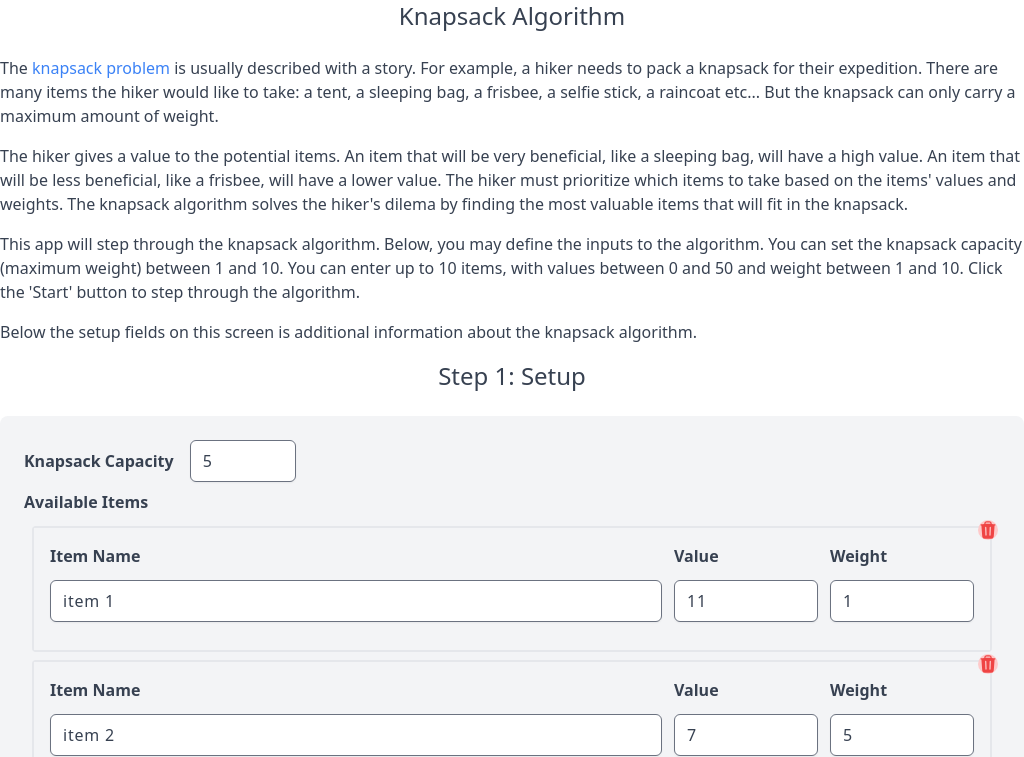
Test: test the setup screen › should not accept missing item name
Clear the field showing "item 1" at {"x": 356, "y": 601}, box [50,580,662,622]
(page scrolled)
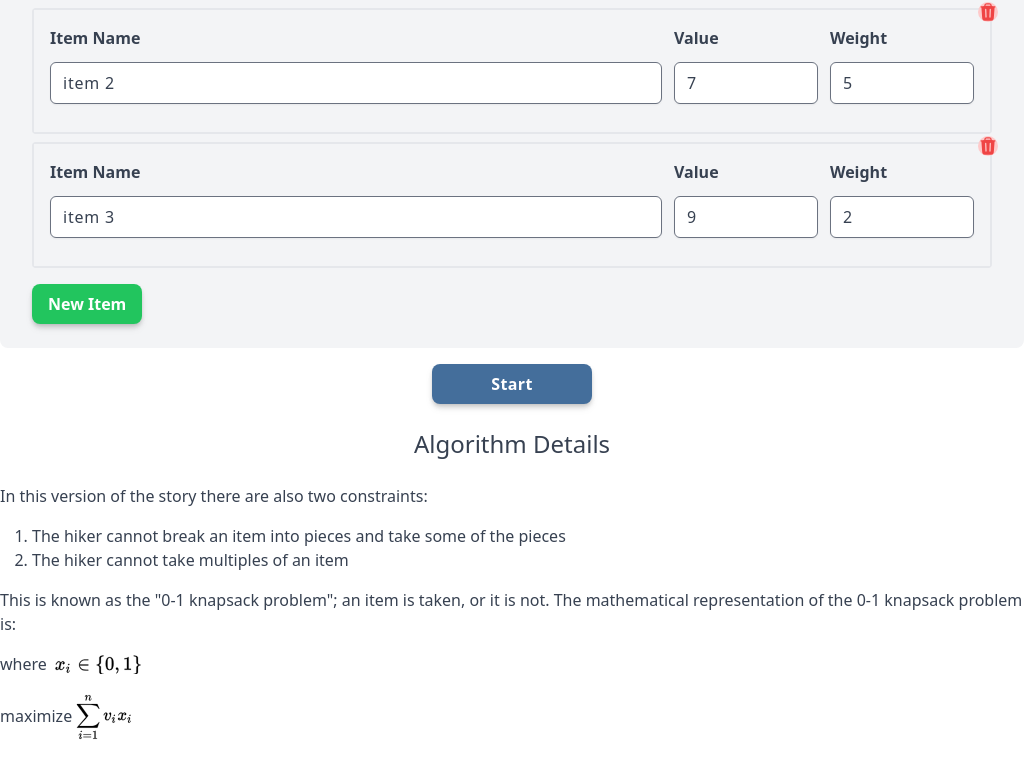
Click the button "Start".
click(512, 384)  # box [432,364,592,404]
(page scrolled)
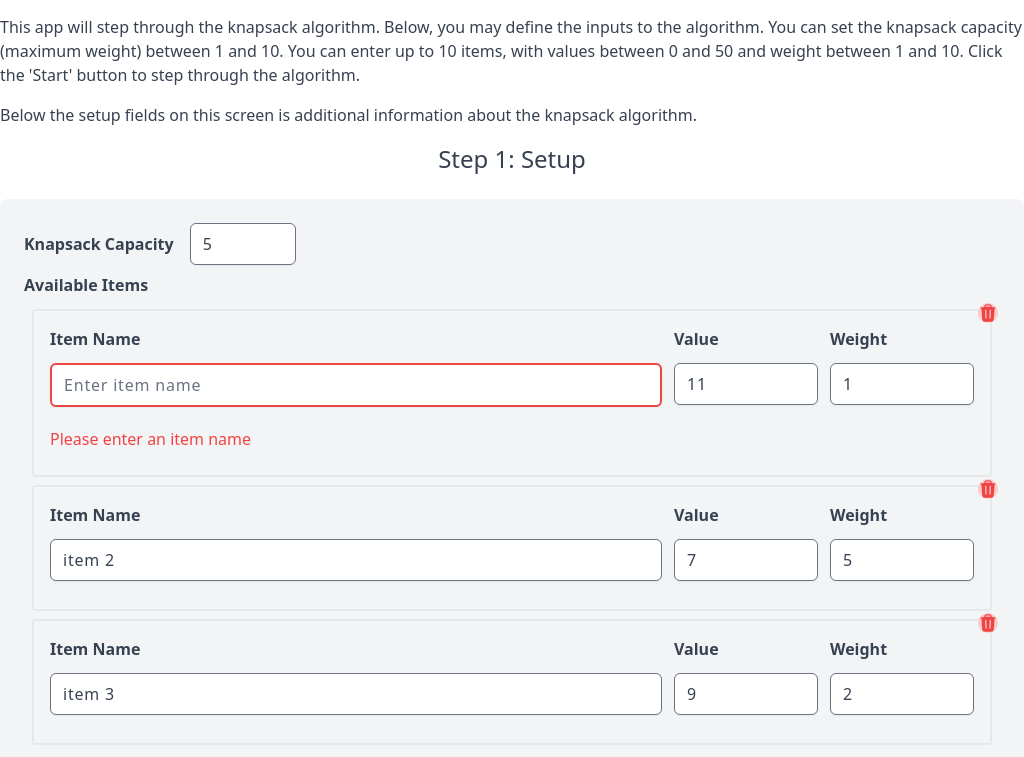
Result: the number of messages is 1 at [50,428,251,450]
